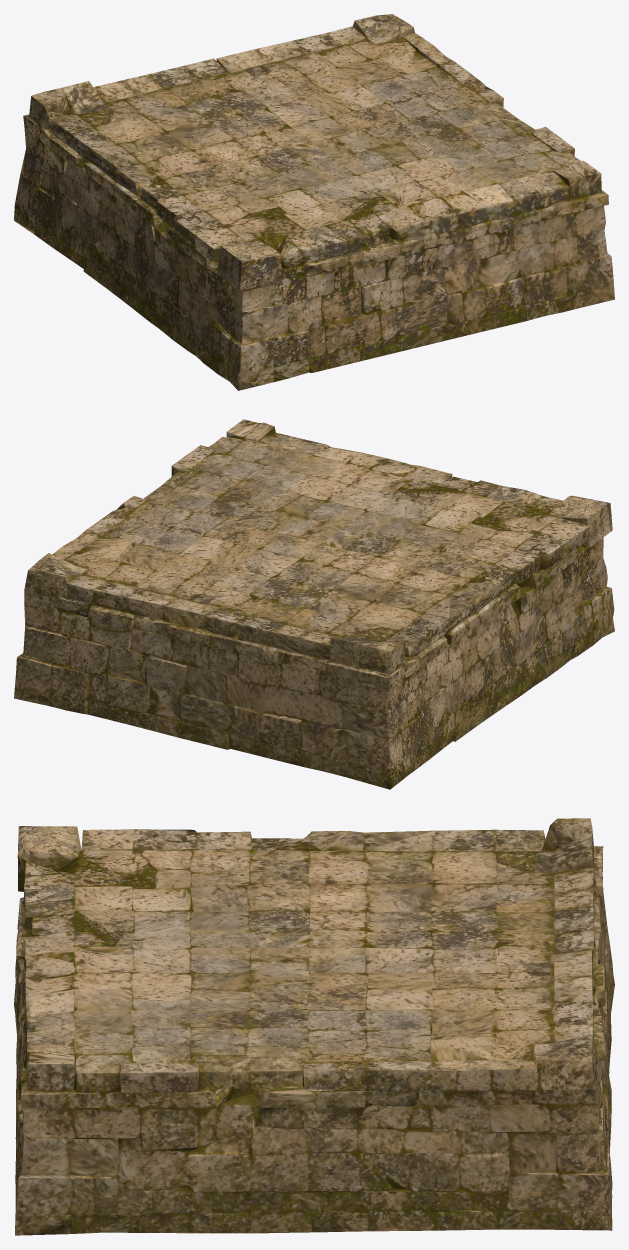
The model's file is ARQ_PlataformaElevada_01_LOD2.fbx.
3 views of the same model, one above another, from view 1: azimuth 30°, elevation 25°; view 2: azimuth 150°, elevation 25°; view 3: azimuth 270°, elevation 25° (orthographic). The views are drawn at different scales.
Visible parts, largest first — view 1: ARQ_PlataformaElevada_01_Mesh000; view 2: ARQ_PlataformaElevada_01_Mesh000; view 3: ARQ_PlataformaElevada_01_Mesh000.
Boxes of the visible parts, left/top/right/bottom form: ARQ_PlataformaElevada_01_Mesh000: left=14, top=14, right=614, bottom=390; ARQ_PlataformaElevada_01_Mesh000: left=14, top=419, right=614, bottom=789; ARQ_PlataformaElevada_01_Mesh000: left=14, top=818, right=614, bottom=1235.
Bounding box in the file's own units: 8 × 2.76 × 8.27.
